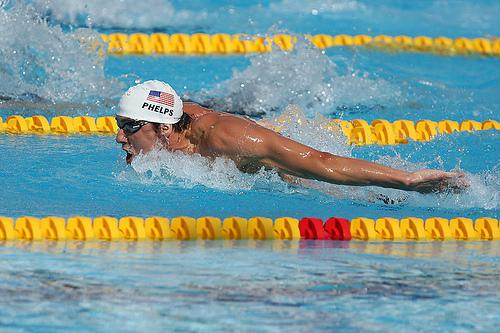swimmer: (112, 76, 468, 200)
